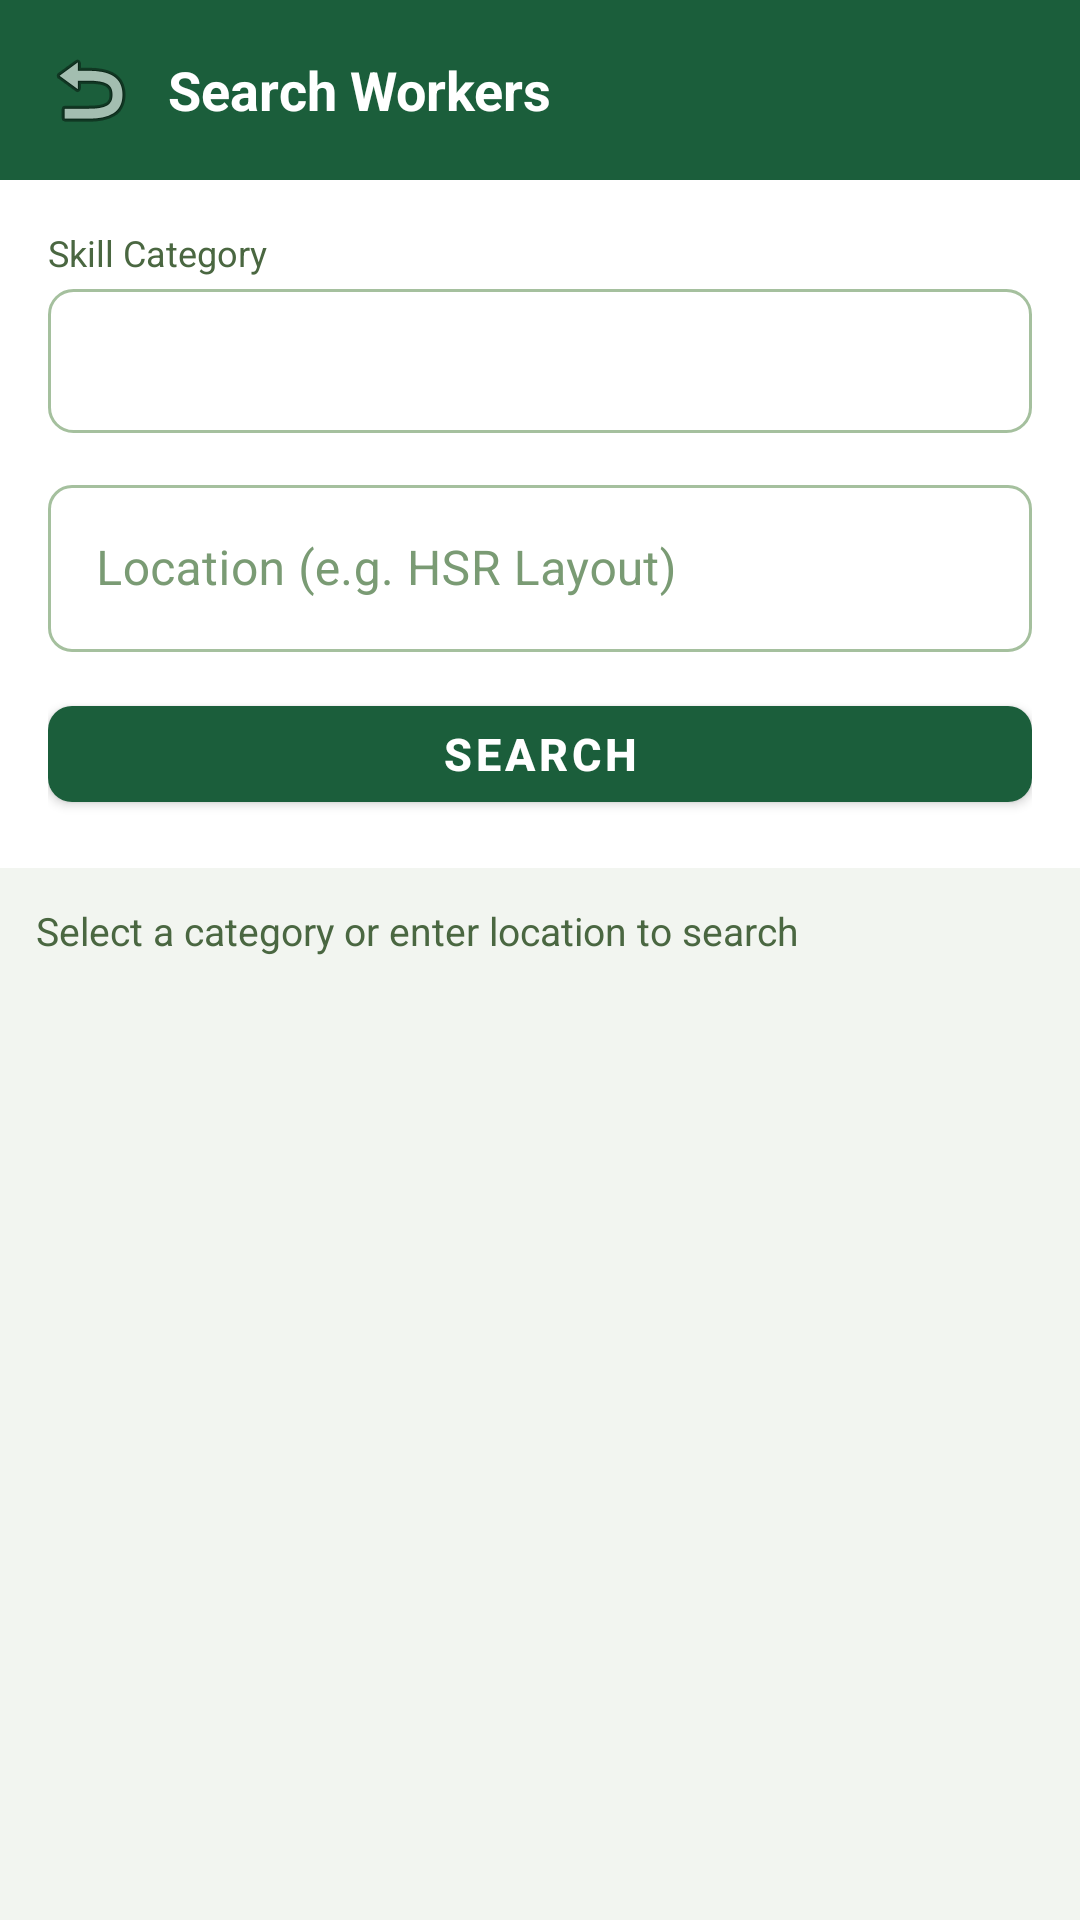

Screen size 1080*1920. Icon name, then its box in pixels as rect(x1, y1, x2, y2):
revert: rect(57, 60, 125, 122)
